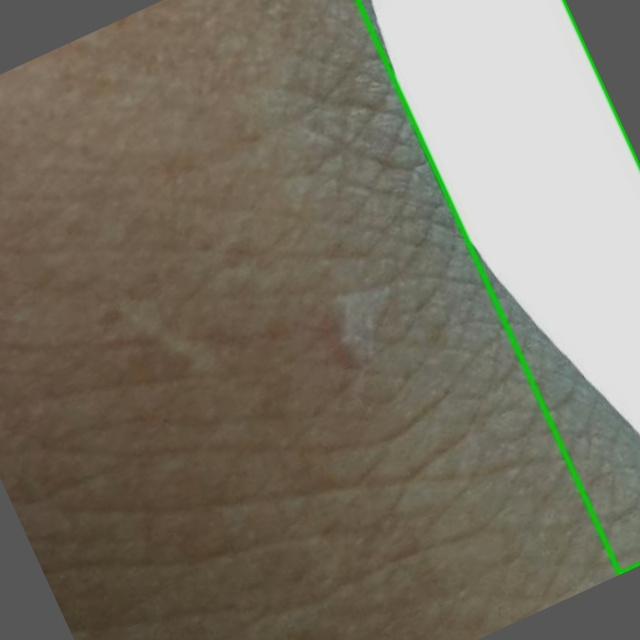Scabies: (357, 0, 639, 573)
